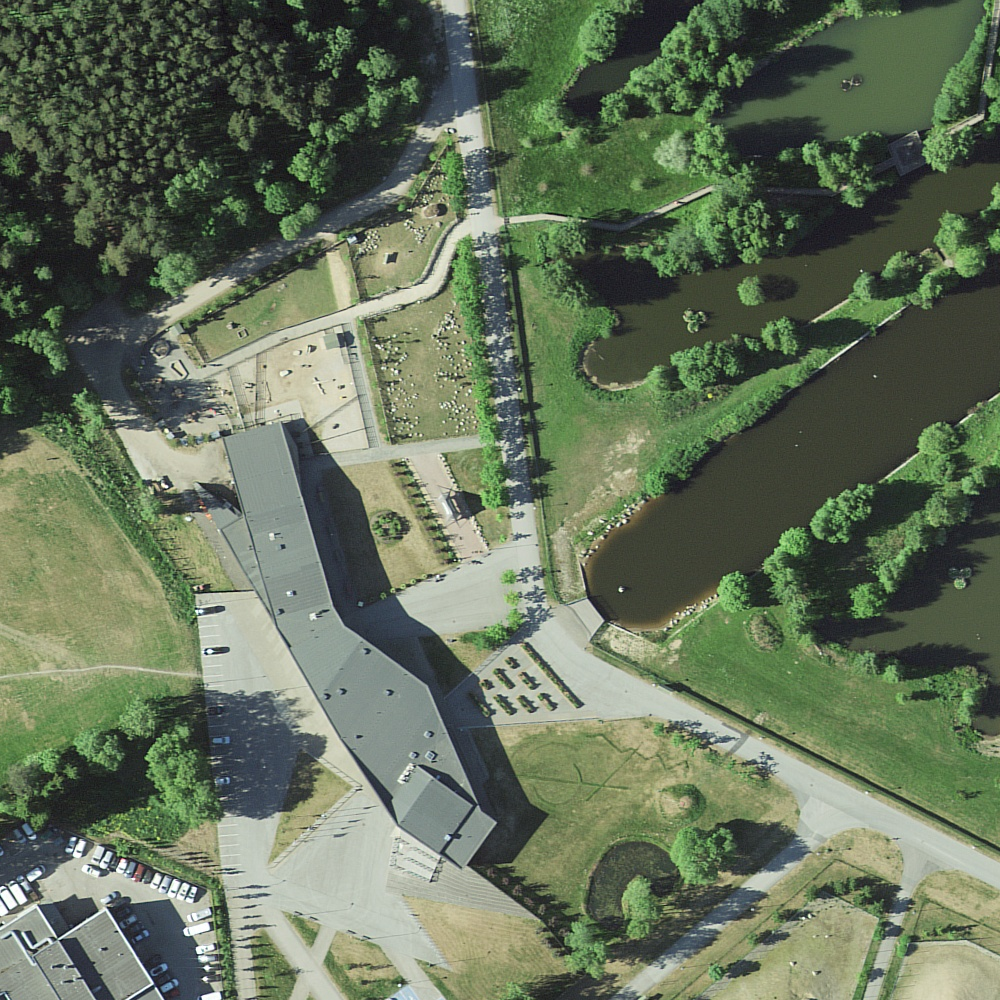building: (219, 423, 499, 871), (3, 905, 166, 1000)
